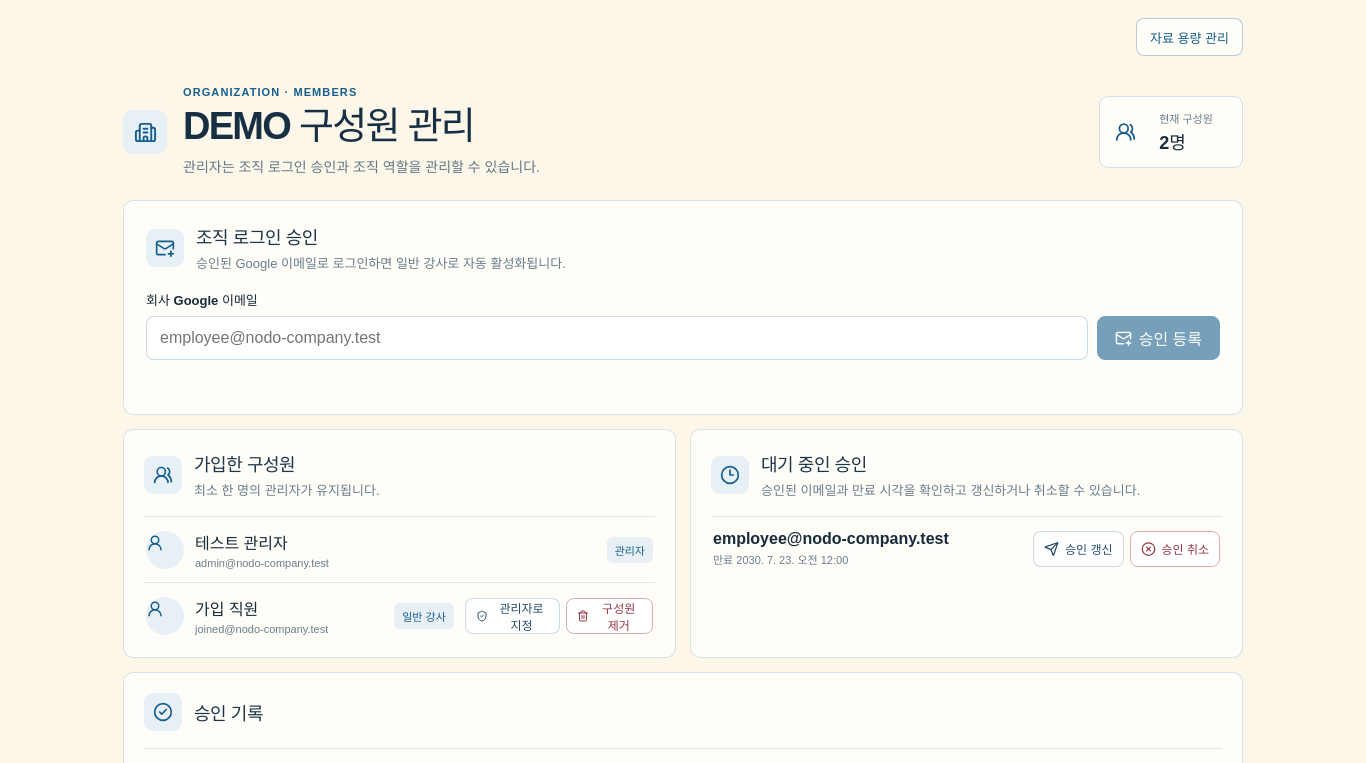
조직 구성원 관리 화면 › 이미 가입한 직원 이메일은 새 초대 API 전에 차단한다
The width and height of the screenshot is (1366, 763).
Expected: the text "가입 직원" is shown, [195,601,258,618]
Type "JOINED@NODO-COMPANY.TEST" into the field labelled "회사 Google 이메일".
click(617, 338); type("JOINED@NODO-COMPANY.TEST")  # box [146,316,1088,360]
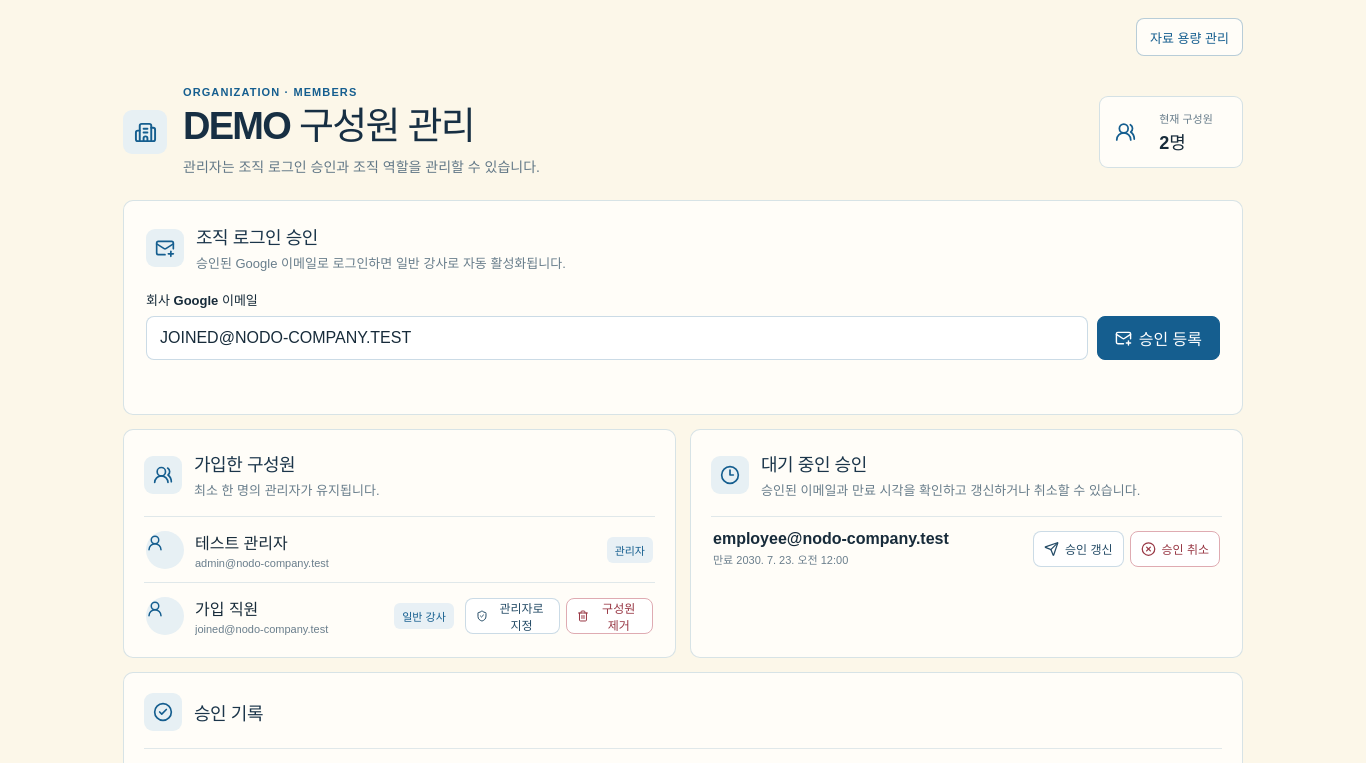
Click the button "승인 등록".
click(1158, 338)  # box [1097,316,1220,360]
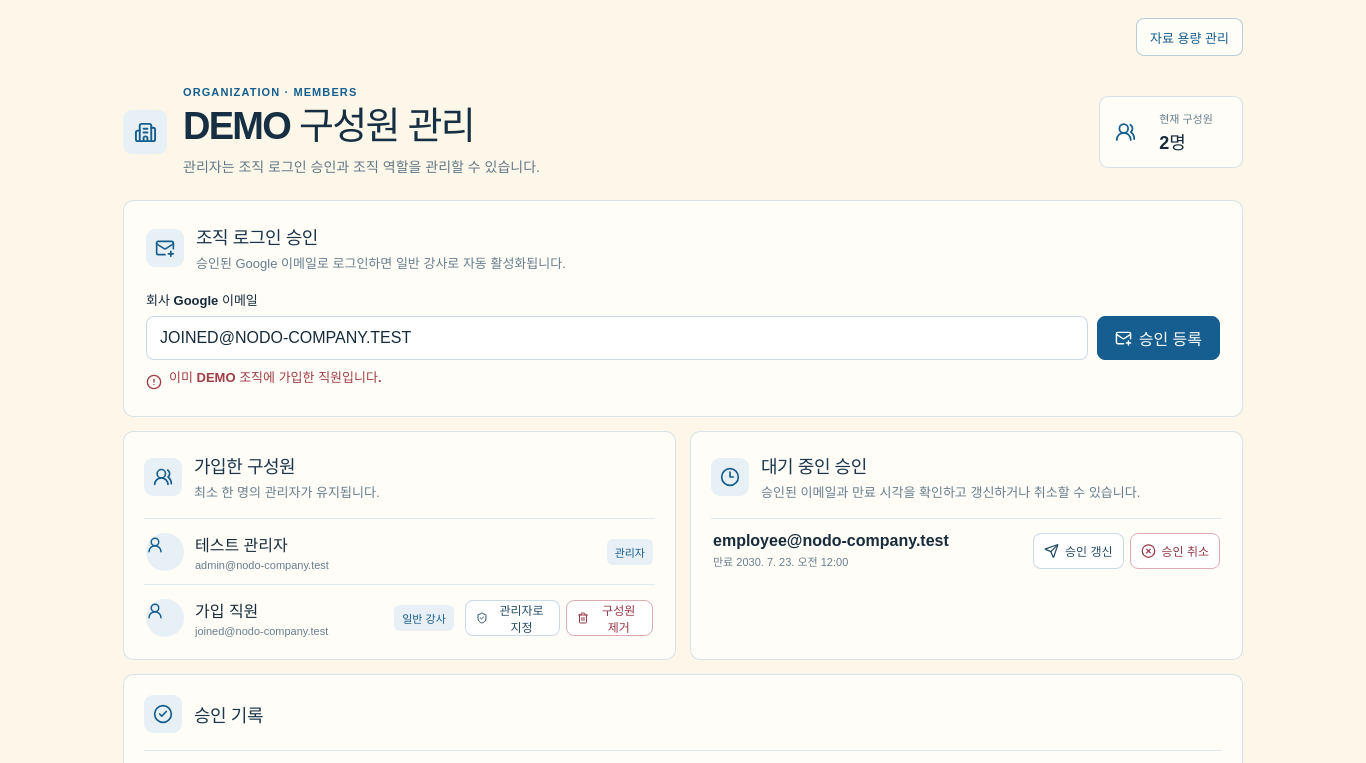
Expected: the message shows "이미 DEMO 조직에 가입", [169,370,382,385]
